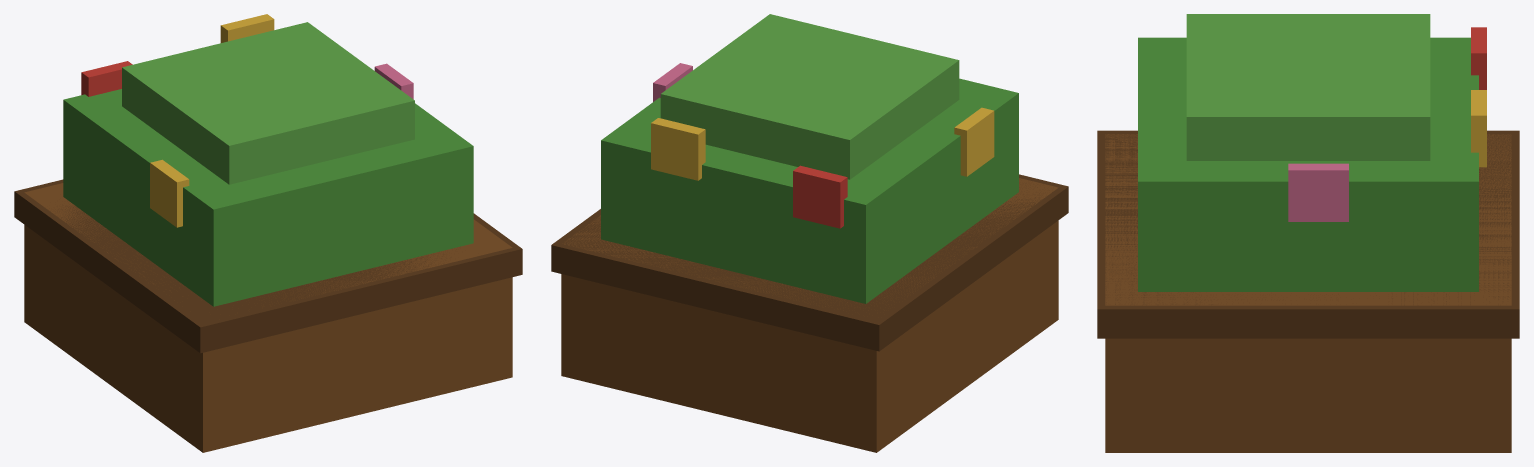
File: cp-planter.glb
3 renders of one model, left to right at view 1: azimuth 30°, elevation 25°; view 2: azimuth 150°, elevation 25°; view 3: azimuth 270°, elevation 25°, orthographic. The views are drawn at different scales.
Visible parts, largest first — view 1: box-prop; view 2: box-prop; view 3: box-prop.
Part boxes in pixels (box(x1,y1,x2,y2)): box-prop: box(14, 14, 522, 452); box-prop: box(551, 14, 1068, 452); box-prop: box(1097, 14, 1519, 452).
Bounding box in the file's own units: 1.04 × 0.82 × 1.04.
